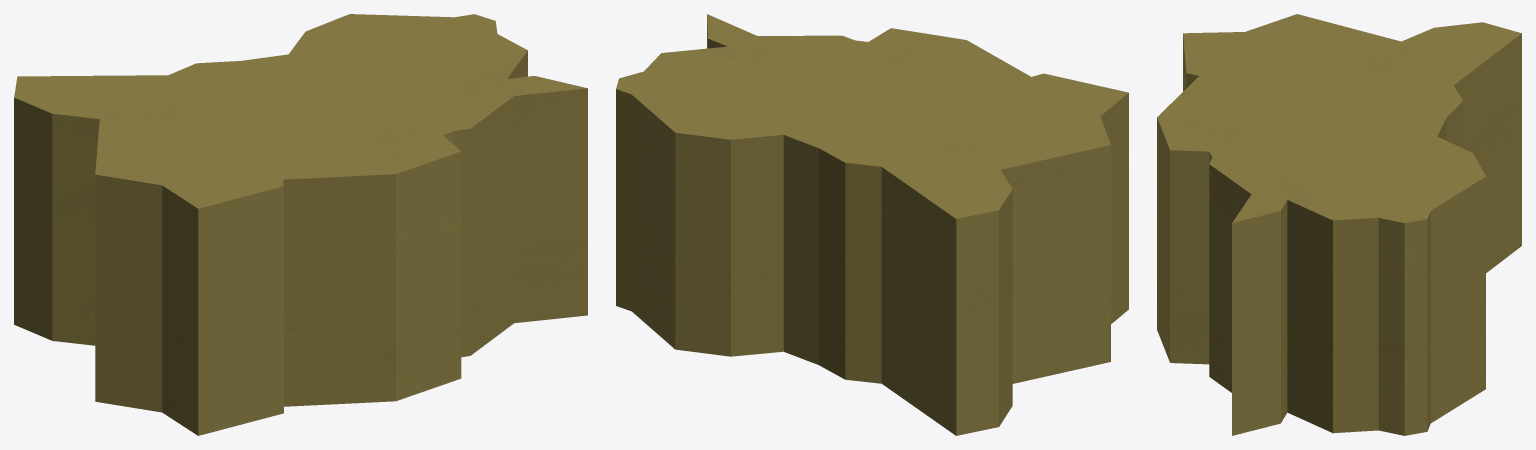
File: bulgaria.DAE
The picture shows the model from 3 angles, left to right: view 1: azimuth 30°, elevation 25°; view 2: azimuth 150°, elevation 25°; view 3: azimuth 270°, elevation 25°; orthographic projection. The views are drawn at different scales.
Visible parts, largest first — view 1: Bulgaria; view 2: Bulgaria; view 3: Bulgaria.
Part boxes in pixels (box(x1,y1,x2,y2)): Bulgaria: box(14, 14, 587, 435); Bulgaria: box(616, 14, 1128, 435); Bulgaria: box(1157, 14, 1521, 435).
Bounding box in the file's own units: 52.73 × 38.85 × 25.
Materials: 1 (1 with a texture image).
